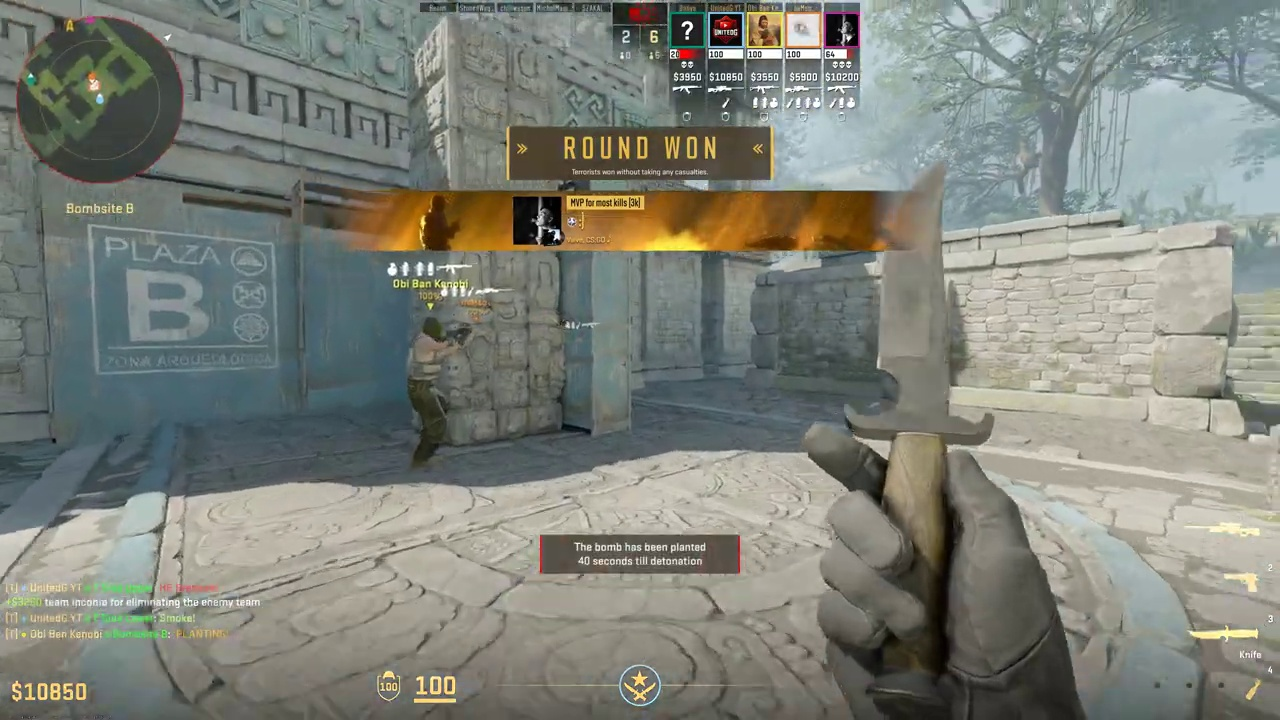Terrorist: (407, 316, 460, 468)
